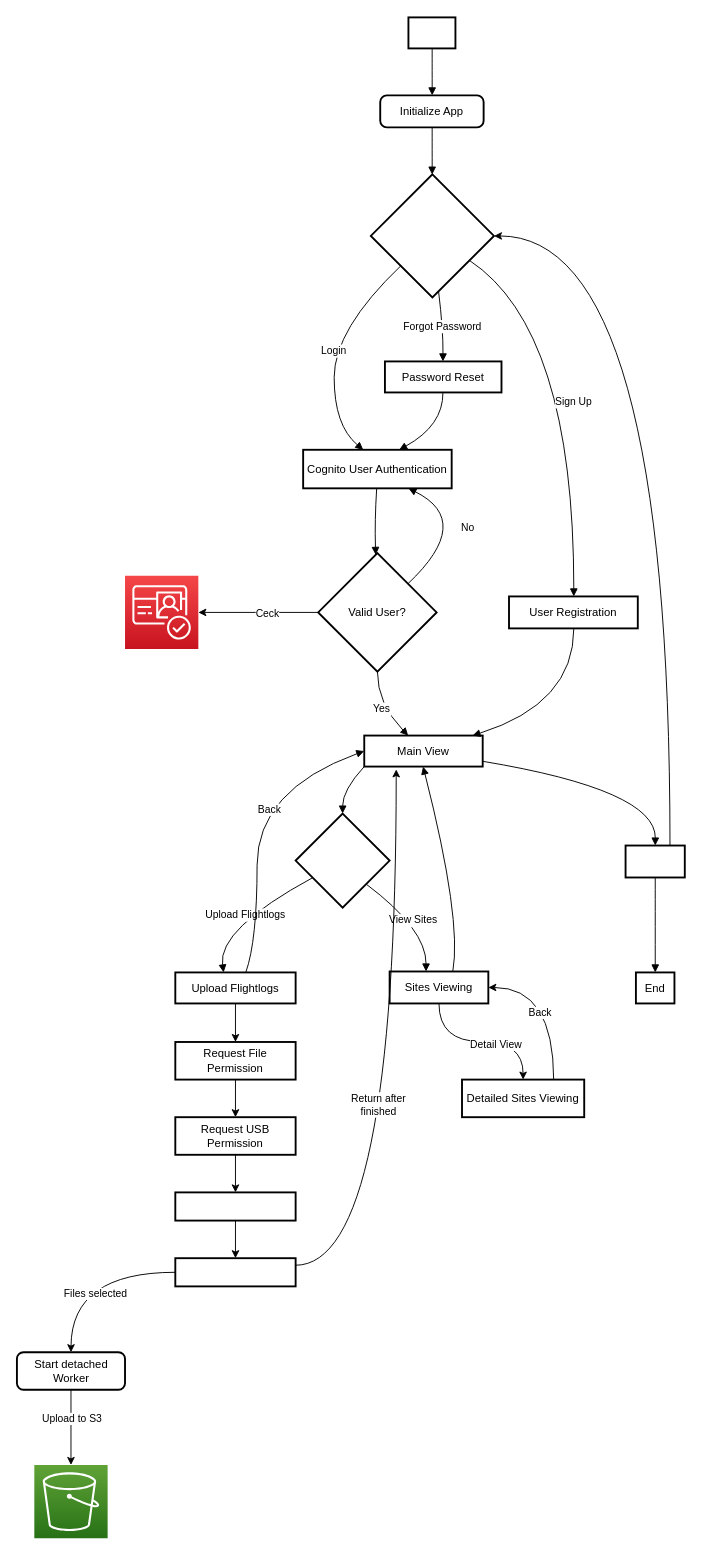
Some shapes in this 702 by 1555 pixel diagram are drawn without their labels. Here are the shapes that lost their labels. From the top down, the centre of each, then its label:
the point at 431,32: Start
the point at 431,235: User Action
the point at 342,860: Actions
the point at 654,861: Logout
the point at 235,1206: Select Folder
the point at 235,1272: Upload Files
